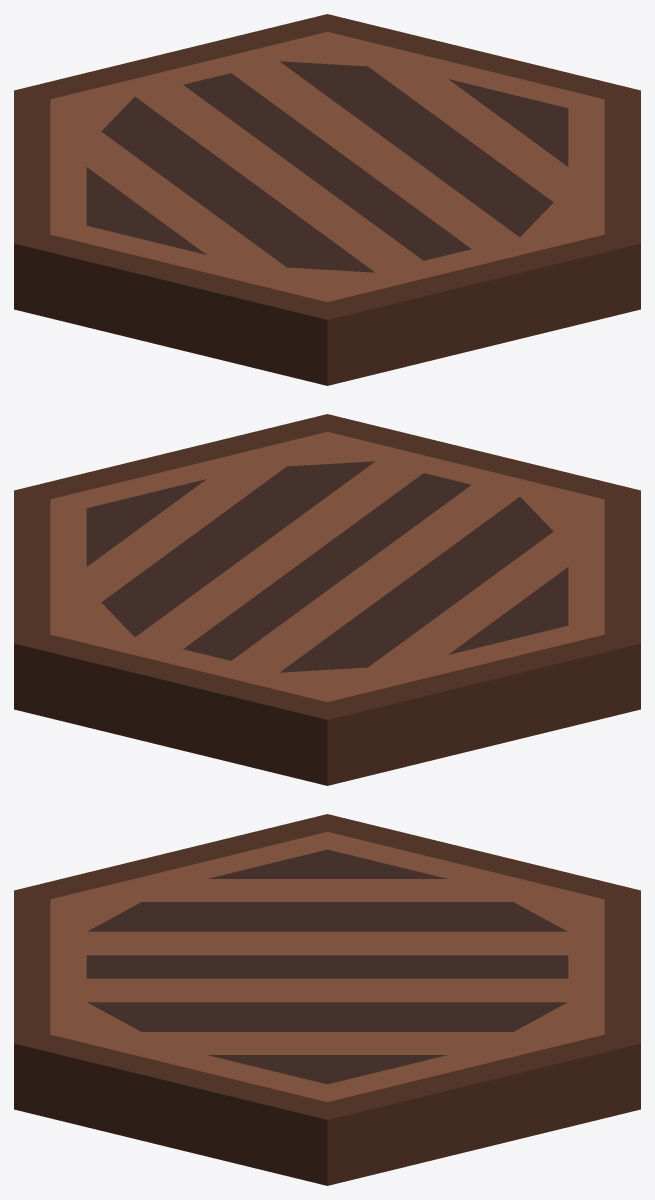
The model's file is Patty.FBX.
The picture shows the model from 3 angles, top to bottom: view 1: azimuth 30°, elevation 25°; view 2: azimuth 150°, elevation 25°; view 3: azimuth 270°, elevation 25°; orthographic projection.
Parts seen in each view (by area): view 1: NGon001; view 2: NGon001; view 3: NGon001.
Part boxes in pixels (box(x1,y1,x2,y2)): NGon001: box(14, 14, 640, 385); NGon001: box(14, 414, 640, 785); NGon001: box(14, 814, 640, 1185).
Size of the model in its own units: 9.94 by 8.61 by 1.
